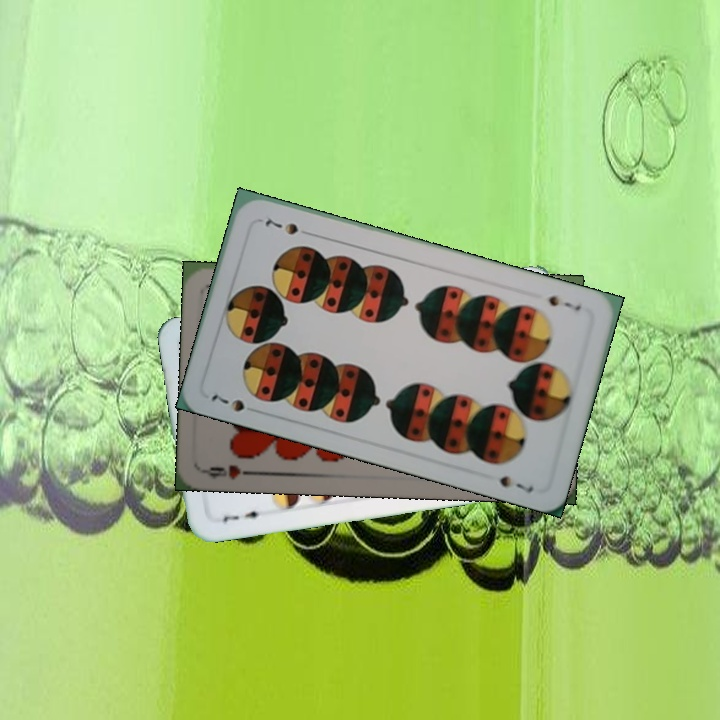E7: (219, 507, 269, 525)
H9: (201, 461, 260, 482)
S7: (206, 390, 248, 415), (544, 291, 584, 314)
